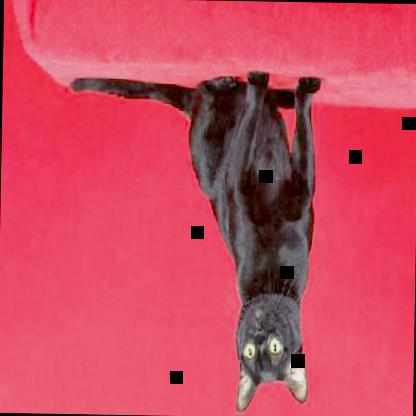cat: (64, 66, 320, 415)
